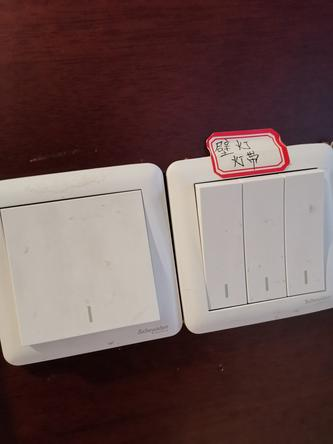switch: (1, 179, 171, 346), (193, 177, 257, 312), (239, 167, 291, 306), (281, 166, 327, 301)
